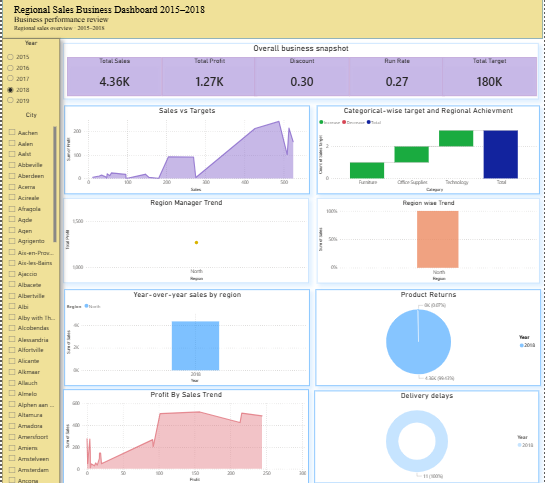

The dashboard page shown, as its layout file describes it:
{"tool":"powerbi","page":{"name":"Page 4","canvas":[1443,1300],"ordinal":0},"visuals":[{"type":"shape","box":[0,0,1442.9,111.4],"z":0},{"type":"textbox","box":[25.7,12.9,1417.1,98.6],"z":1000},{"type":"textbox","title":"Overall business snapshot","box":[164.3,124.3,1267.1,148.6],"z":2000},{"type":"cardVisual","title":"Total Sales","fields":{"Data":["Orders_All.Total Sales"]},"box":[174.3,158.6,252.9,104.3],"z":3000},{"type":"stackedAreaChart","title":"Sales vs Targets","fields":{"Category":["Orders_All.Sales"],"Y":["Sum(Orders_All.Profit)"]},"box":[166.7,288.3,653.3,235],"z":4000},{"type":"waterfallChart","title":"Categorical-wise target and Regional Achievment","fields":{"Category":["Targets.Category"],"Y":["CountNonNull(Targets.Sales Target)"]},"box":[838.3,288.3,593.3,235],"z":5000},{"type":"areaChart","title":"Region Manager Trend","fields":{"Category":["pople.Region"],"Y":["Orders_All.Total Profit"]},"box":[164.3,537.1,654.3,225.7],"z":6000},{"type":"slicer","title":"Year","fields":{"Values":["Targets.Year"]},"box":[0,111.4,154.3,1188.6],"z":7000},{"type":"hundredPercentStackedColumnChart","title":" Region wise Trend","fields":{"Category":["pople.Region"],"Y":["Sum(Orders_All.Sales)"]},"box":[838.3,536.7,593.3,226.7],"z":8000},{"type":"lineClusteredColumnComboChart","title":"Year-over-year sales by region","fields":{"Category":["Targets.Year"],"Y":["Sum(Orders_All.Sales)"],"Series":["pople.Region"]},"box":[166.7,780,653.3,256.7],"z":9000},{"type":"pieChart","title":"Product Returns","fields":{"Category":["Targets.Year"],"Y":["Orders_All.Total Returns","Sum(Orders_All.Sales)","CountNonNull(Orders_All.Region)"]},"box":[835,780,600,256.7],"z":10000},{"type":"stackedAreaChart","title":"Profit By Sales Trend","fields":{"Category":["Orders_All.Profit"],"Y":["Sum(Orders_All.Sales)"]},"box":[164.3,1047.1,654.3,252.9],"z":11000},{"type":"cardVisual","title":"Total Profit","fields":{"Data":["Sum(Orders_All.Profit)"]},"box":[427.1,158.6,252.9,104.3],"z":13000},{"type":"cardVisual","title":"Discount","fields":{"Data":["Sum(Orders_All.Discount)"]},"box":[672.9,158.6,252.9,104.3],"z":14000},{"type":"cardVisual","title":"Run Rate","fields":{"Data":["Orders_All.Return Rate"]},"box":[925.7,158.6,252.9,104.3],"z":15000},{"type":"cardVisual","title":"Total Target","fields":{"Data":["Min(Targets.Sales Target)"]},"box":[1172.9,158.6,252.9,104.3],"z":16000},{"type":"slicer","title":"City","fields":{"Values":["Orders_All.City"]},"box":[5,301.7,143.3,998.3],"z":16002},{"type":"donutChart","title":"Delivery delays","fields":{"Category":["Targets.Year"],"Y":["Orders_All.Total Orders"]},"box":[833.3,1050,598.3,246.7],"z":16003}]}

Visuals, with their boxes in screenshot pixels (x1, y1, x2, y2):
shape: Rect(0, 0, 544, 38)
textbox: Rect(10, 1, 544, 38)
"Overall business snapshot" textbox: Rect(62, 43, 543, 99)
"Total Sales" cardVisual: Rect(66, 56, 162, 96)
"Sales vs Targets" stackedAreaChart: Rect(63, 105, 311, 194)
"Categorical-wise target and Regional Achievment" waterfallChart: Rect(318, 105, 543, 194)
"Region Manager Trend" areaChart: Rect(62, 200, 311, 285)
"Year" slicer: Rect(0, 38, 59, 482)
" Region wise Trend" hundredPercentStackedColumnChart: Rect(318, 199, 543, 285)
"Year-over-year sales by region" lineClusteredColumnComboChart: Rect(63, 292, 311, 389)
"Product Returns" pieChart: Rect(317, 292, 544, 389)
"Profit By Sales Trend" stackedAreaChart: Rect(62, 393, 311, 482)
"Total Profit" cardVisual: Rect(162, 56, 258, 96)
"Discount" cardVisual: Rect(255, 56, 351, 96)
"Run Rate" cardVisual: Rect(351, 56, 447, 96)
"Total Target" cardVisual: Rect(445, 56, 541, 96)
"City" slicer: Rect(2, 110, 56, 482)
"Delivery delays" donutChart: Rect(316, 394, 543, 482)
